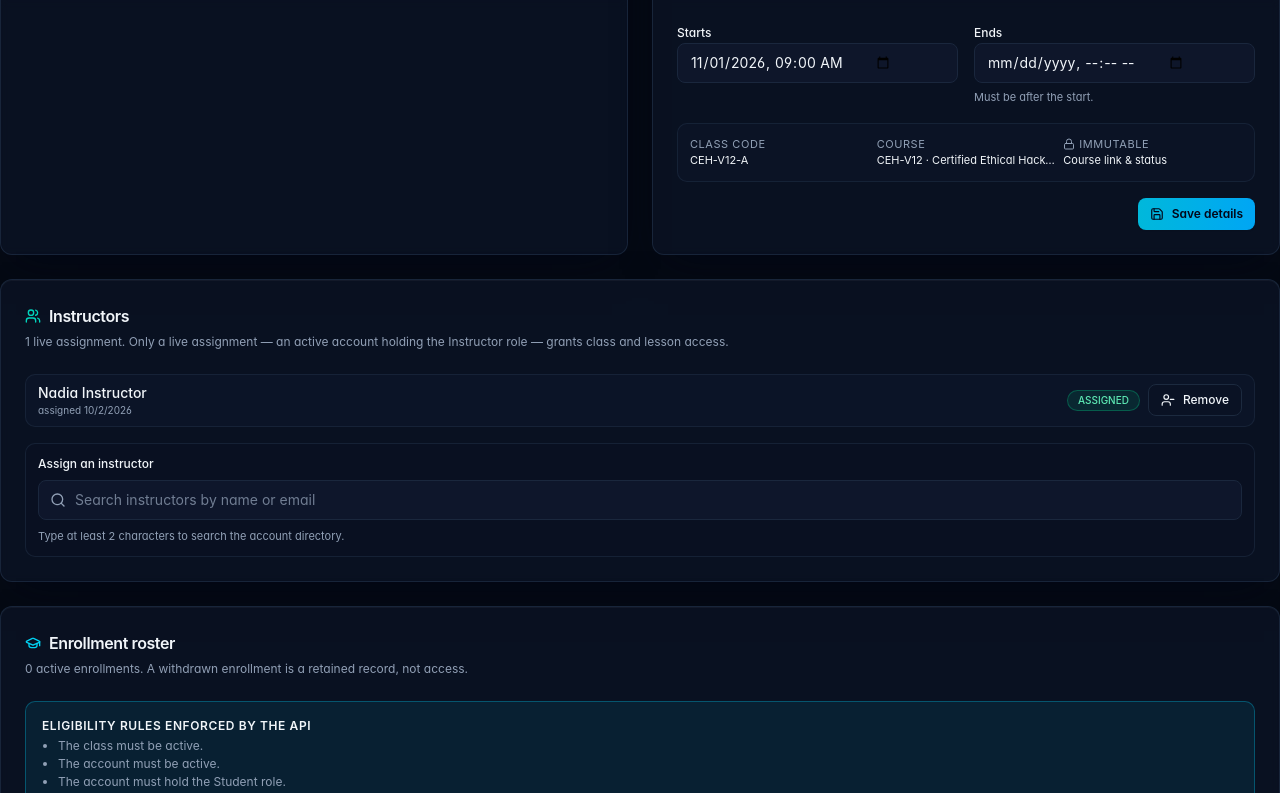
Test case: Step-up replay on class mutations › does not replay a removal when reauthentication is cancelled
The width and height of the screenshot is (1280, 793).
(page scrolled)
expect the text "Nadia Instructor" is shown: met, box left=38, top=383, right=147, bottom=403
Click the button with aria-label "Remove Nadia Instructor".
click(1195, 400)  # box left=1148, top=384, right=1242, bottom=416
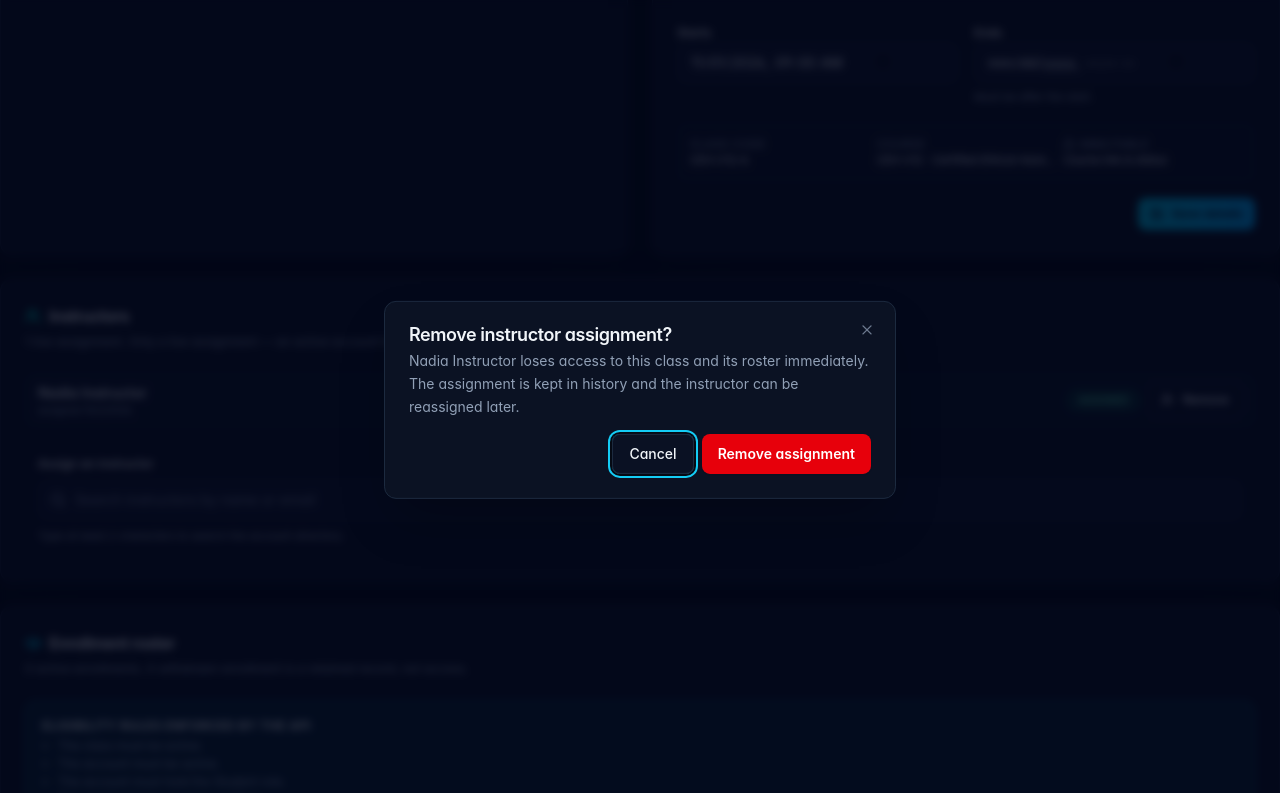
Click the button "Remove assignment".
click(786, 454)  # box left=702, top=434, right=871, bottom=474
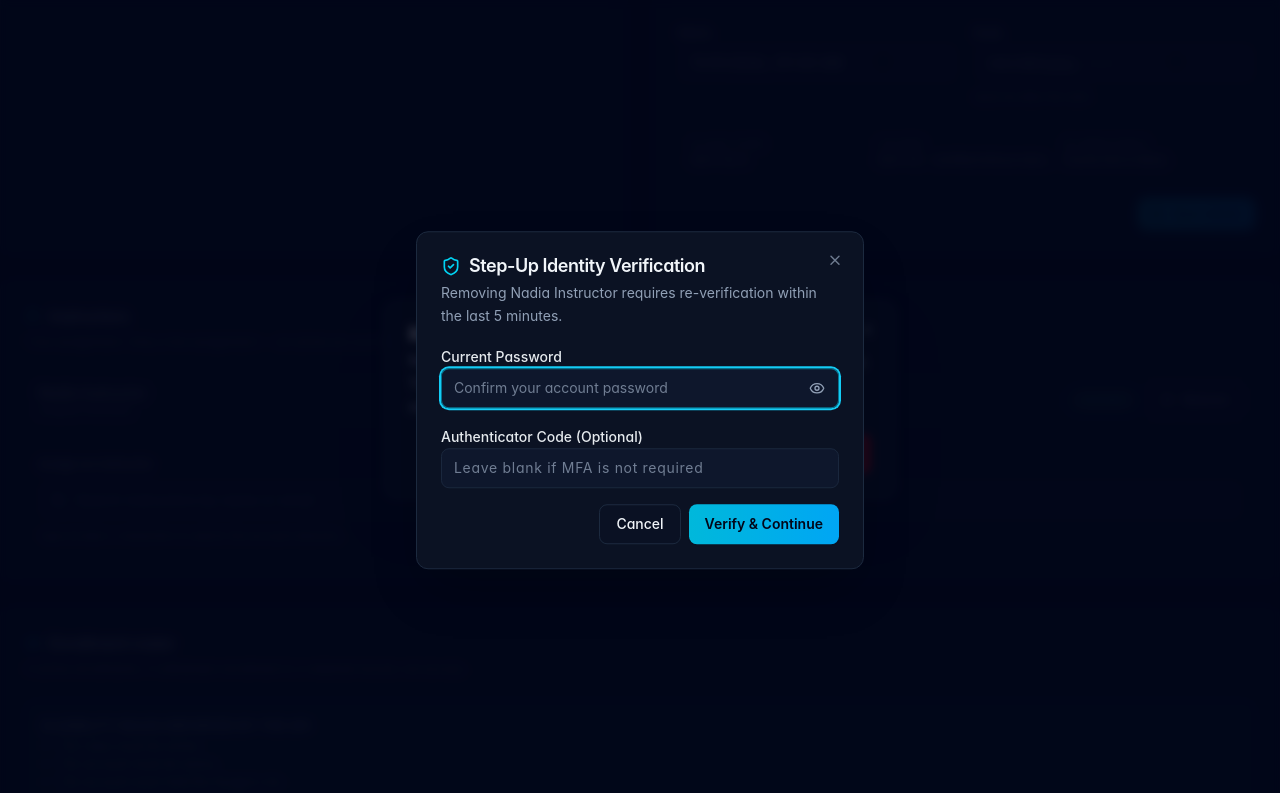
Click the button "Cancel".
click(640, 524)  # box left=599, top=504, right=681, bottom=544
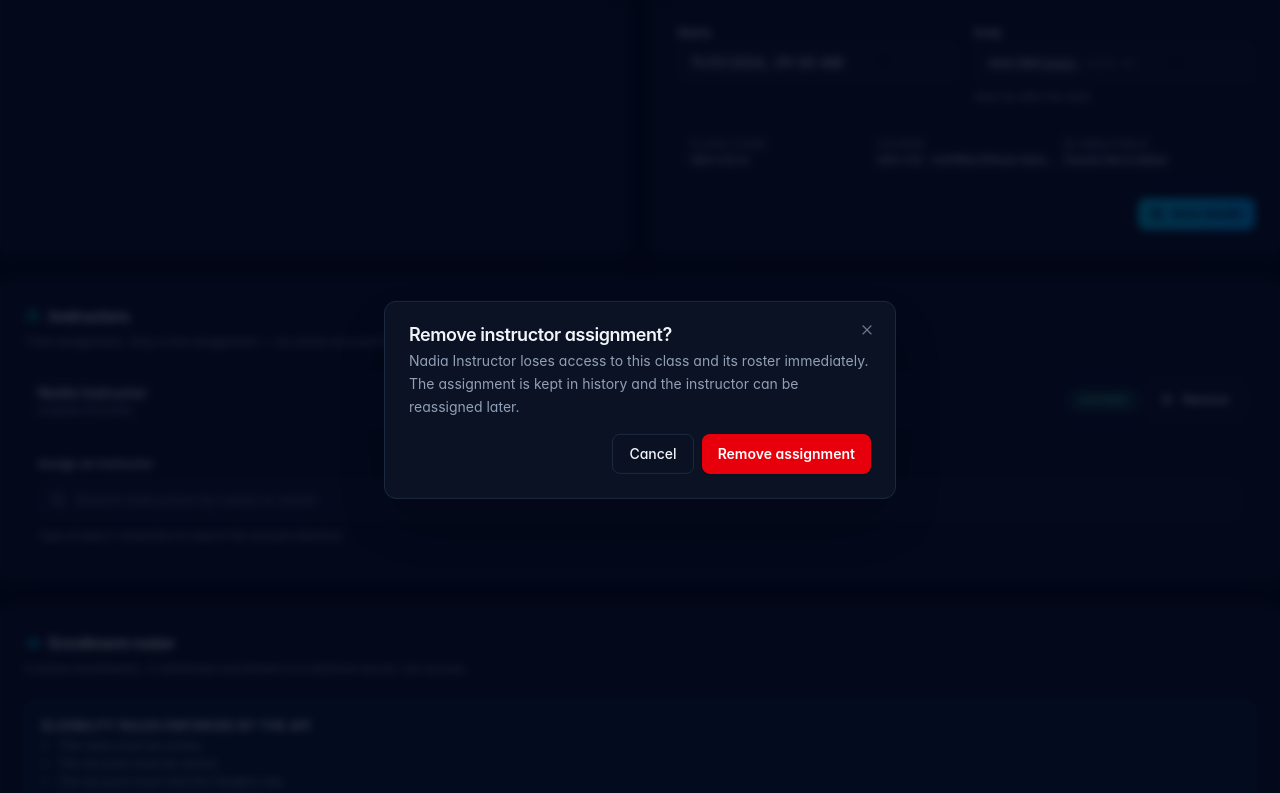
expect the text "Step-Up Identity Verification" is gone: met
